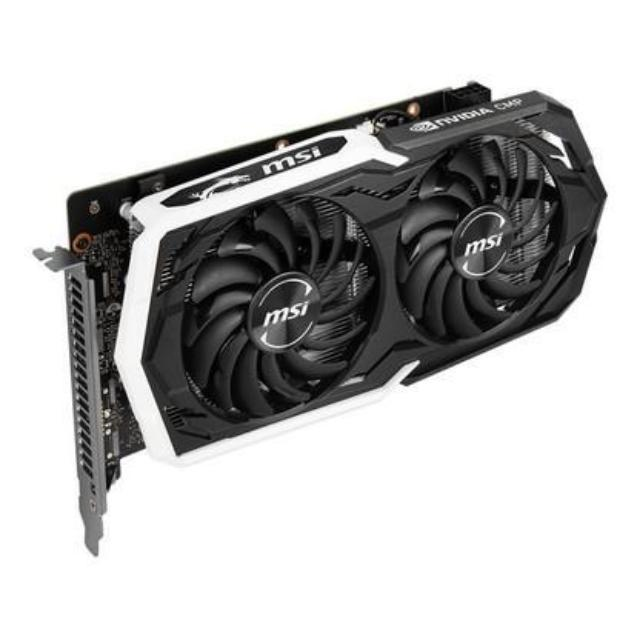GPU: (32, 72, 610, 497)
